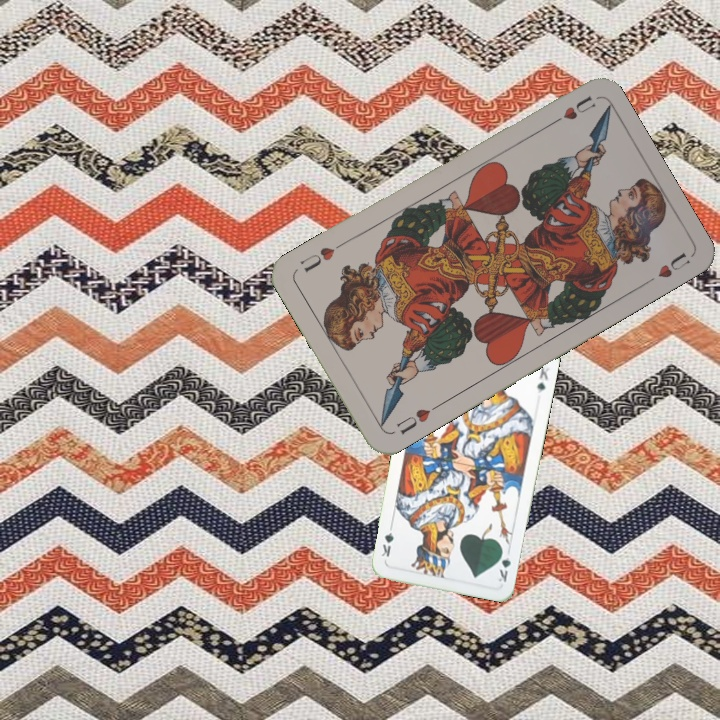GK: (494, 545, 514, 585)
HU: (544, 92, 598, 130), (392, 400, 442, 438)
